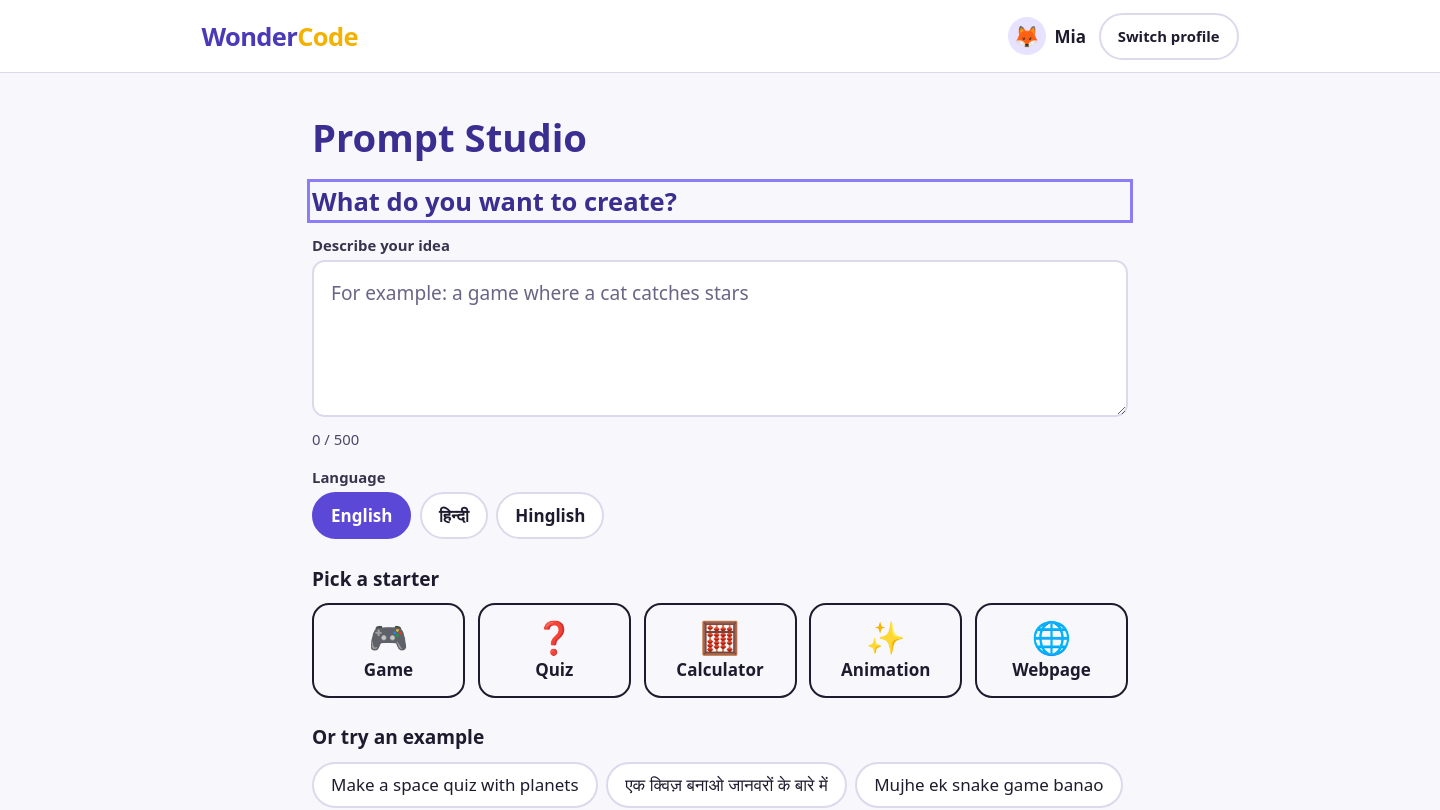
Scenario: Prompt Studio › fills the prompt from a starter card and an example
Expected: the heading "What do you want to create?" is shown, [312,184,677,218]
What coordinates should you click on to do the following:
click the button "❓ Quiz"
I would click on:
 (554, 650)
Its box is [478,603,631,698].
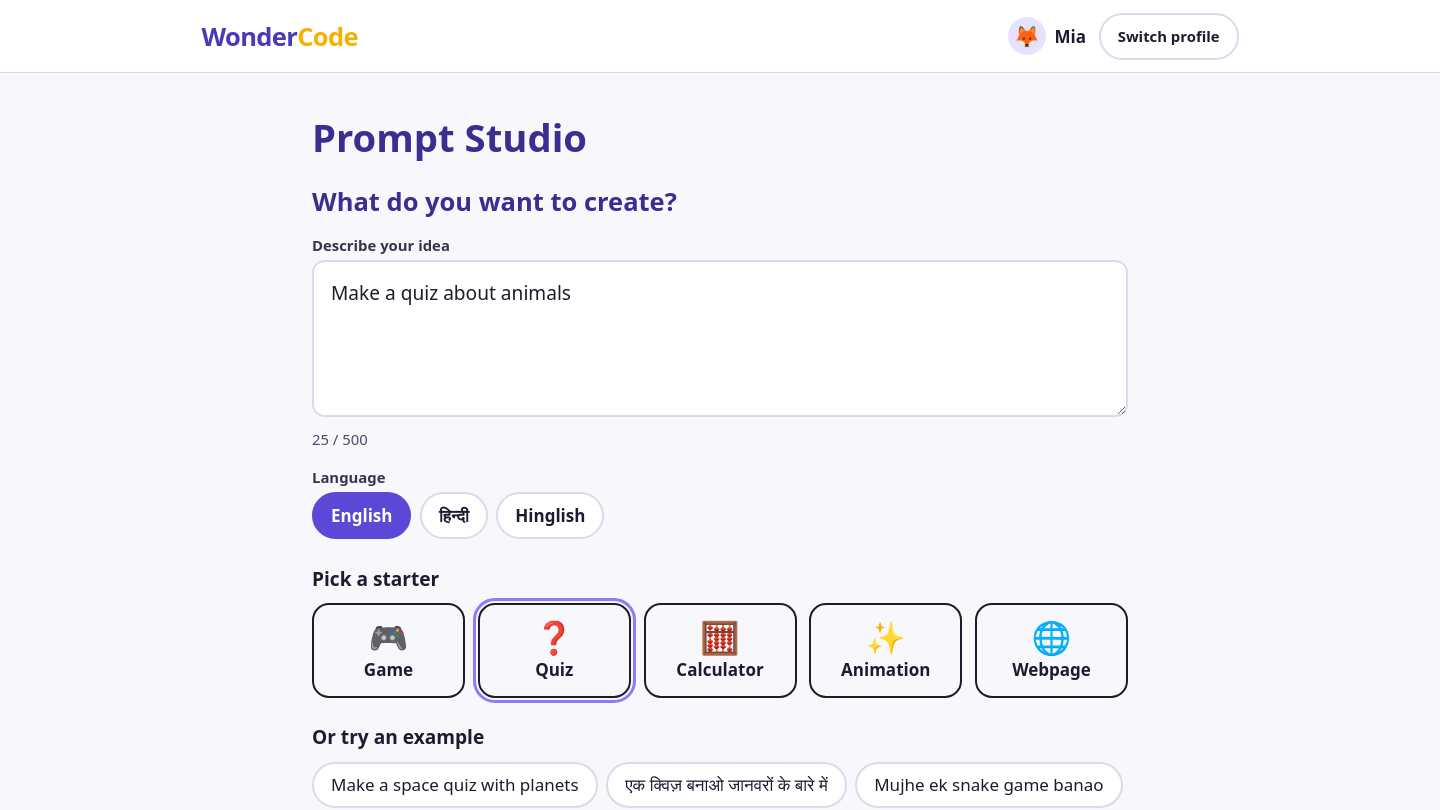
Expected: the text box labelled "Describe your idea" holds "Make a quiz about animals", [312,260,1128,417]
What coordinates should you click on to do the following:
click the button "Make a space quiz with planets"
I would click on:
 (455, 785)
Its box is [312,762,598,808].
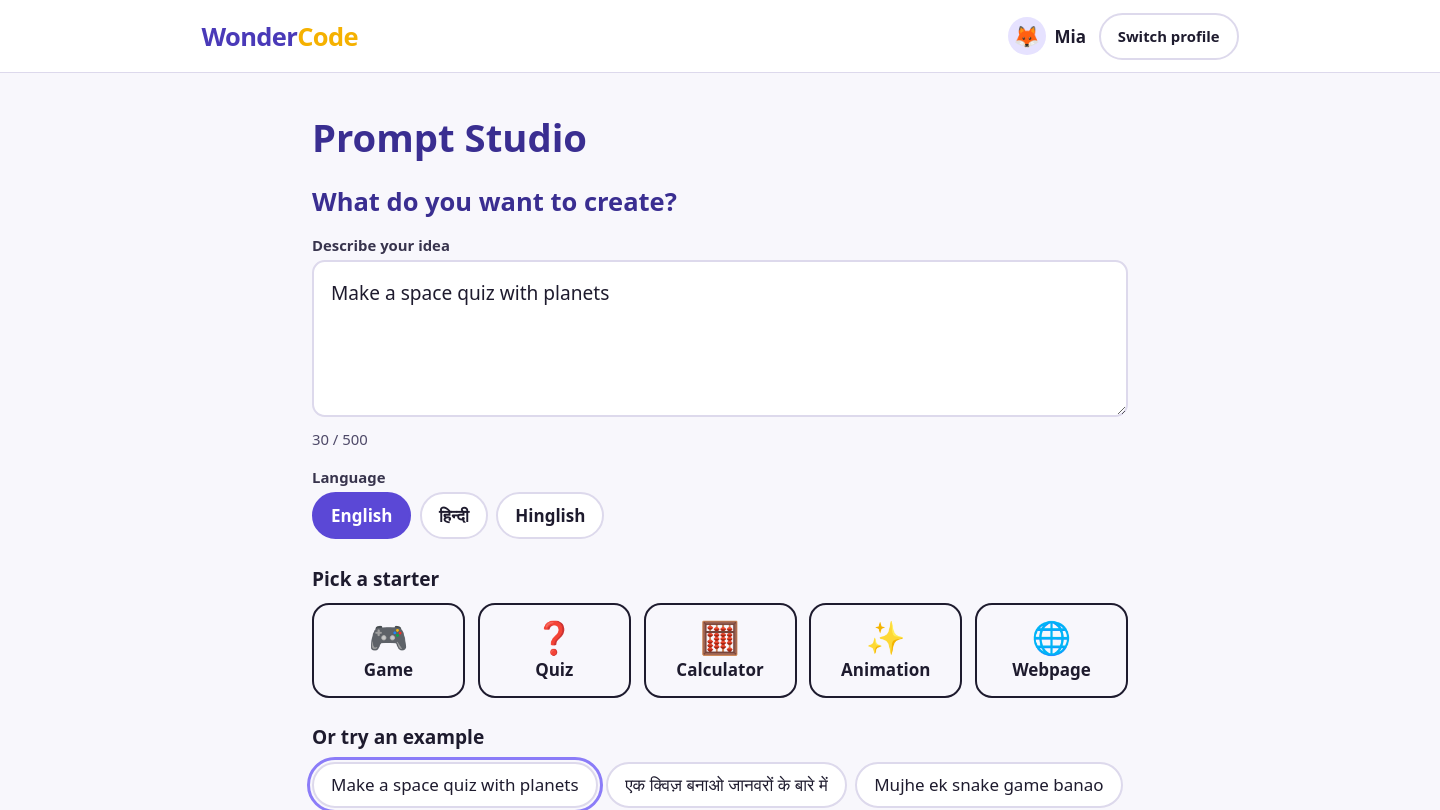
Expected: the text box labelled "Describe your idea" holds "Make a space quiz with planets", [312,260,1128,417]
